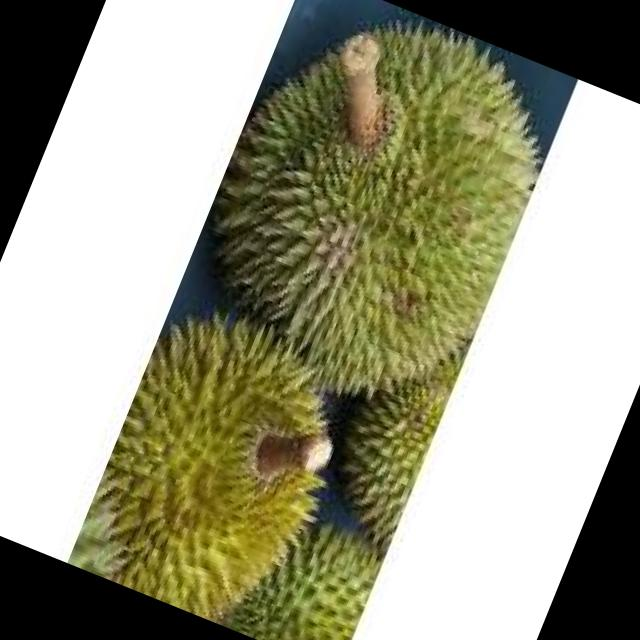fruit: (156, 0, 579, 437)
